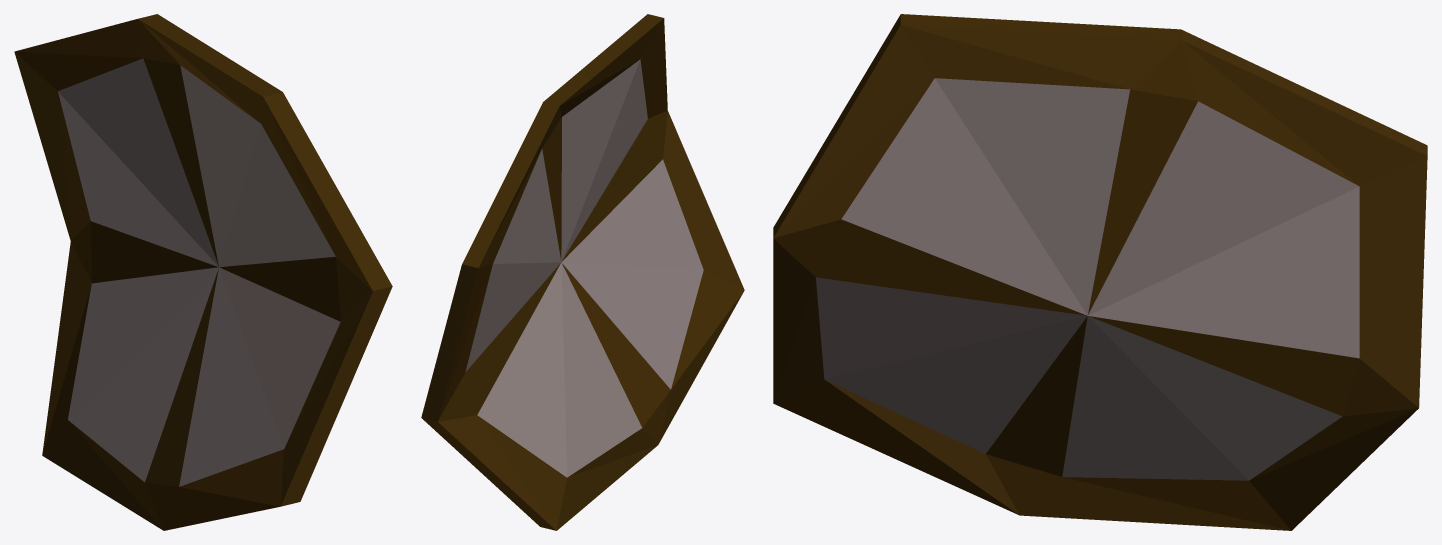
Rendered from model_523_npc.obj.
The picture shows the model from 3 angles, left to right: view 1: azimuth 30°, elevation 25°; view 2: azimuth 150°, elevation 25°; view 3: azimuth 270°, elevation 25°; orthographic projection. The views are drawn at different scales.
Parts seen in each view (by area): view 1: 523; view 2: 523; view 3: 523.
Part boxes in pixels (left/top/right/bottom): 523: left=14, top=14, right=392, bottom=530; 523: left=421, top=14, right=744, bottom=530; 523: left=773, top=14, right=1427, bottom=530.
Size of the model in its own units: 18 by 69 by 77.
